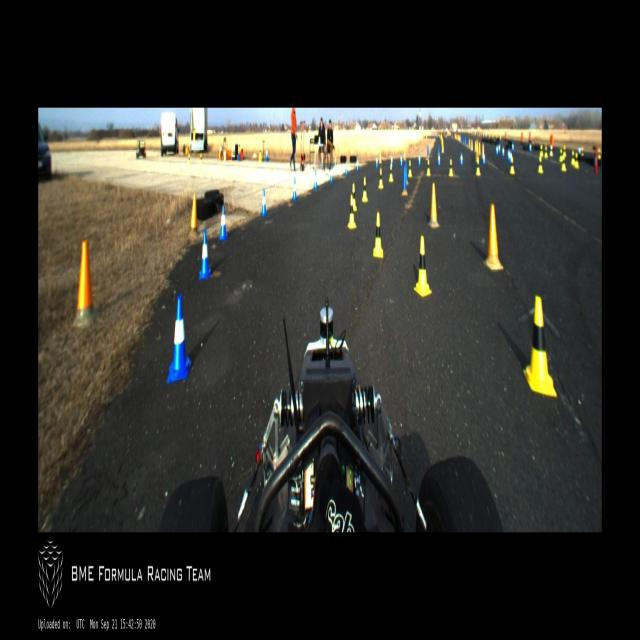blue_cone: (167, 296, 191, 382), (199, 231, 211, 278), (219, 205, 227, 240), (261, 189, 267, 216), (292, 178, 297, 200), (314, 169, 318, 189), (330, 165, 333, 182), (460, 151, 463, 165), (345, 162, 348, 176), (356, 158, 359, 172), (375, 155, 378, 168), (418, 153, 421, 166), (438, 152, 440, 166), (400, 153, 402, 166), (391, 155, 393, 167), (502, 145, 504, 157)
unknown_cone: (73, 240, 98, 325), (483, 204, 503, 269), (428, 182, 440, 228), (188, 193, 199, 236)
yellow_cone: (524, 297, 557, 396), (414, 236, 431, 296), (373, 213, 383, 258), (348, 196, 357, 230), (362, 177, 368, 201), (352, 183, 357, 209), (378, 168, 384, 188), (538, 154, 543, 172), (510, 157, 515, 174), (426, 160, 431, 176), (561, 155, 566, 171), (389, 164, 393, 182), (408, 160, 412, 177), (449, 159, 453, 176), (476, 158, 480, 175), (571, 150, 575, 164), (575, 152, 578, 168), (540, 145, 543, 157), (550, 146, 553, 156), (545, 146, 547, 158), (560, 149, 562, 161)
